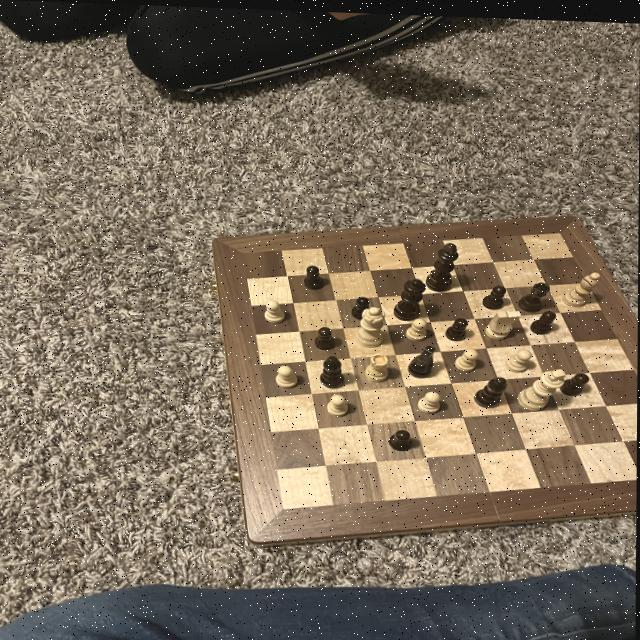bishop: (473, 371, 508, 405), (318, 352, 348, 388)
black-bishop: (425, 237, 460, 290)
black-king: (407, 340, 438, 375)
black-knight: (560, 366, 593, 395), (529, 305, 560, 332), (482, 280, 509, 308), (443, 312, 469, 340), (301, 262, 325, 290), (388, 425, 413, 450), (314, 323, 338, 349), (351, 293, 372, 317)
black-pawn: (394, 274, 429, 321)
black-queen: (515, 277, 554, 311)
black-rook: (561, 264, 603, 305)
white-bishop: (516, 361, 567, 409)
white-king: (483, 303, 524, 338)
white-knight: (504, 344, 534, 370), (273, 361, 300, 388), (453, 344, 482, 368), (262, 297, 287, 324), (405, 314, 431, 339), (418, 387, 444, 411), (327, 391, 351, 415)
white-pawn: (354, 303, 387, 349)
white-queen: (363, 350, 390, 382)
